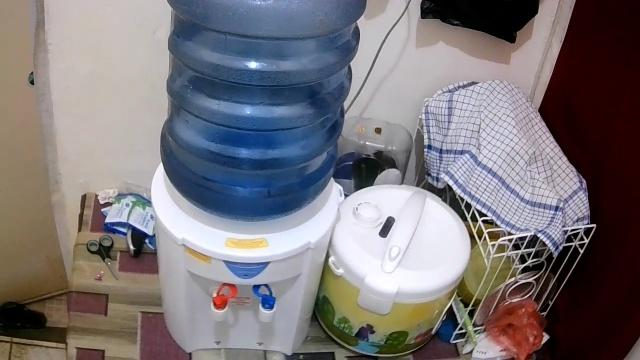Dispenser: (149, 0, 369, 353)
